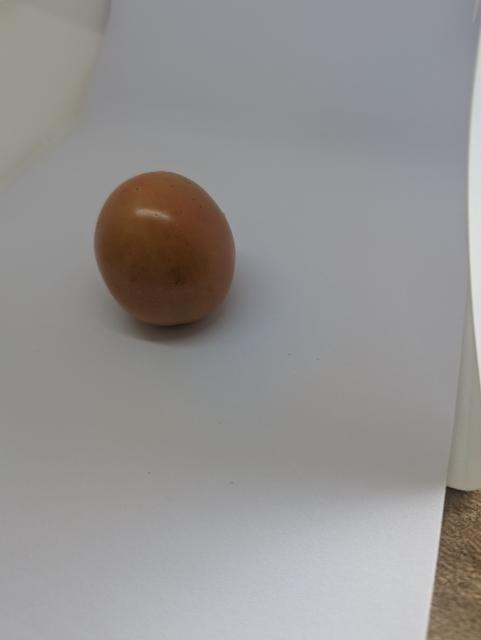turning: (87, 167, 251, 337)
